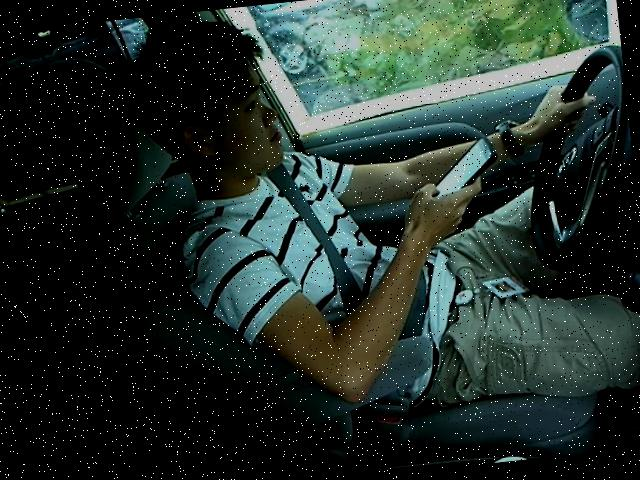c1 - Texting: (113, 0, 639, 425)
